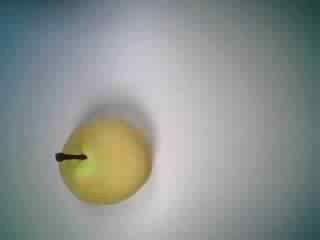pear: (46, 98, 156, 216)
